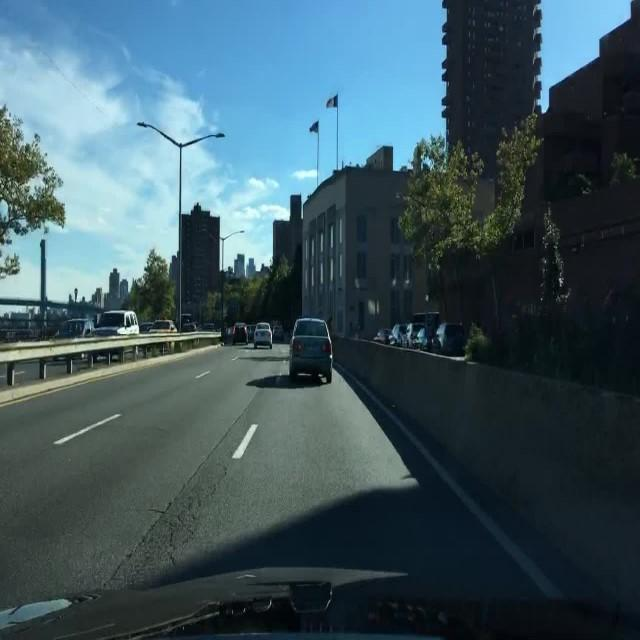normal: (253, 315, 337, 390)
